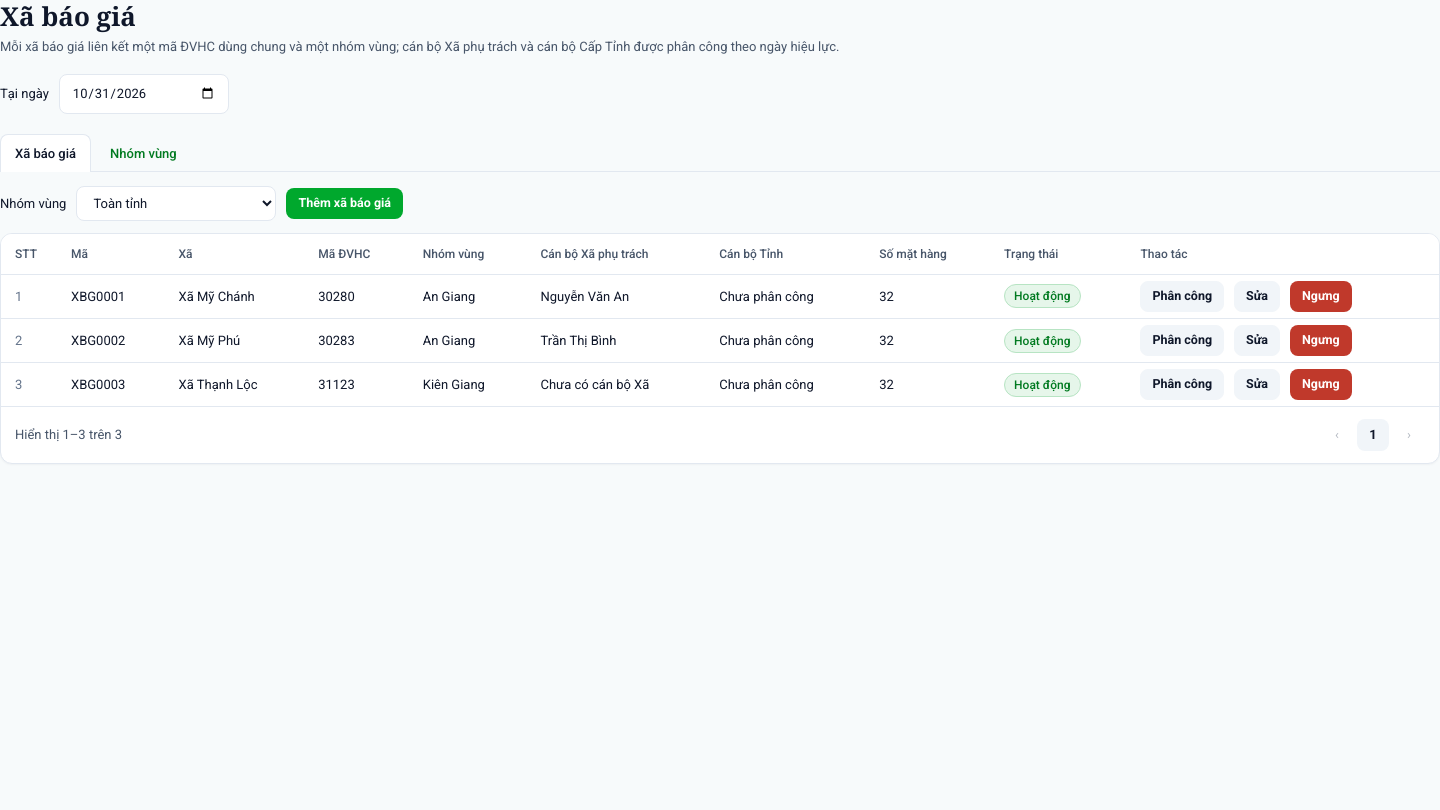
xã báo giá — backend giả lập theo hợp đồng /v1/price/points* › màn Admin: danh sách xã, thêm xã qua hộp thoại
Expected: the text "XBG0001" is shown, 57,274 -> 164,318
Expected: the text "Nguyễn Văn An" is shown, 526,274 -> 705,318
Click the button "Thêm xã báo giá": coordinates (345, 204) 286,188 -> 403,219
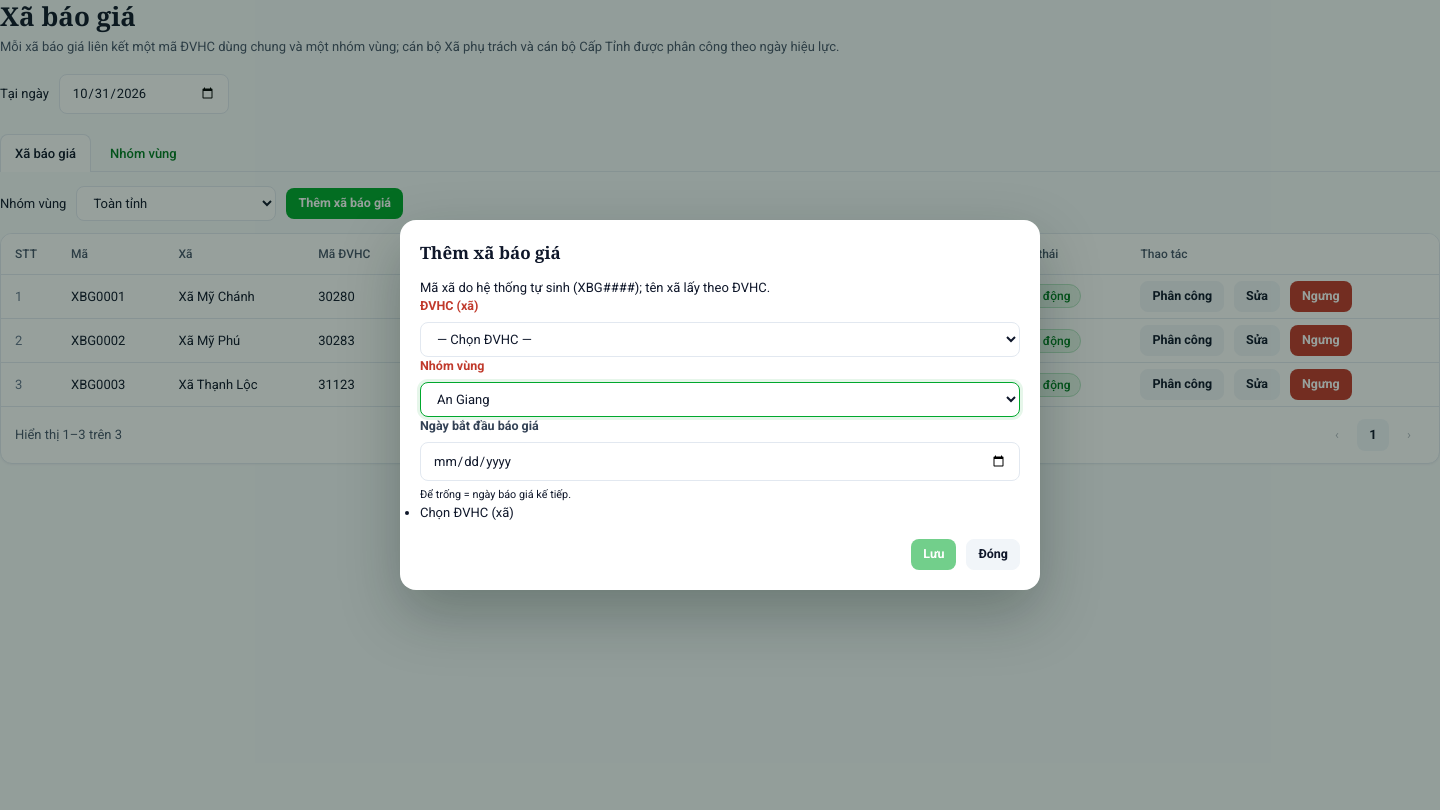
Result: the dropdown labelled "ĐVHC (xã)" is shown
Select "31126 — Xã Bình An" in the dropdown labelled "ĐVHC (xã)": coordinates (720, 340) 420,322 -> 1020,357
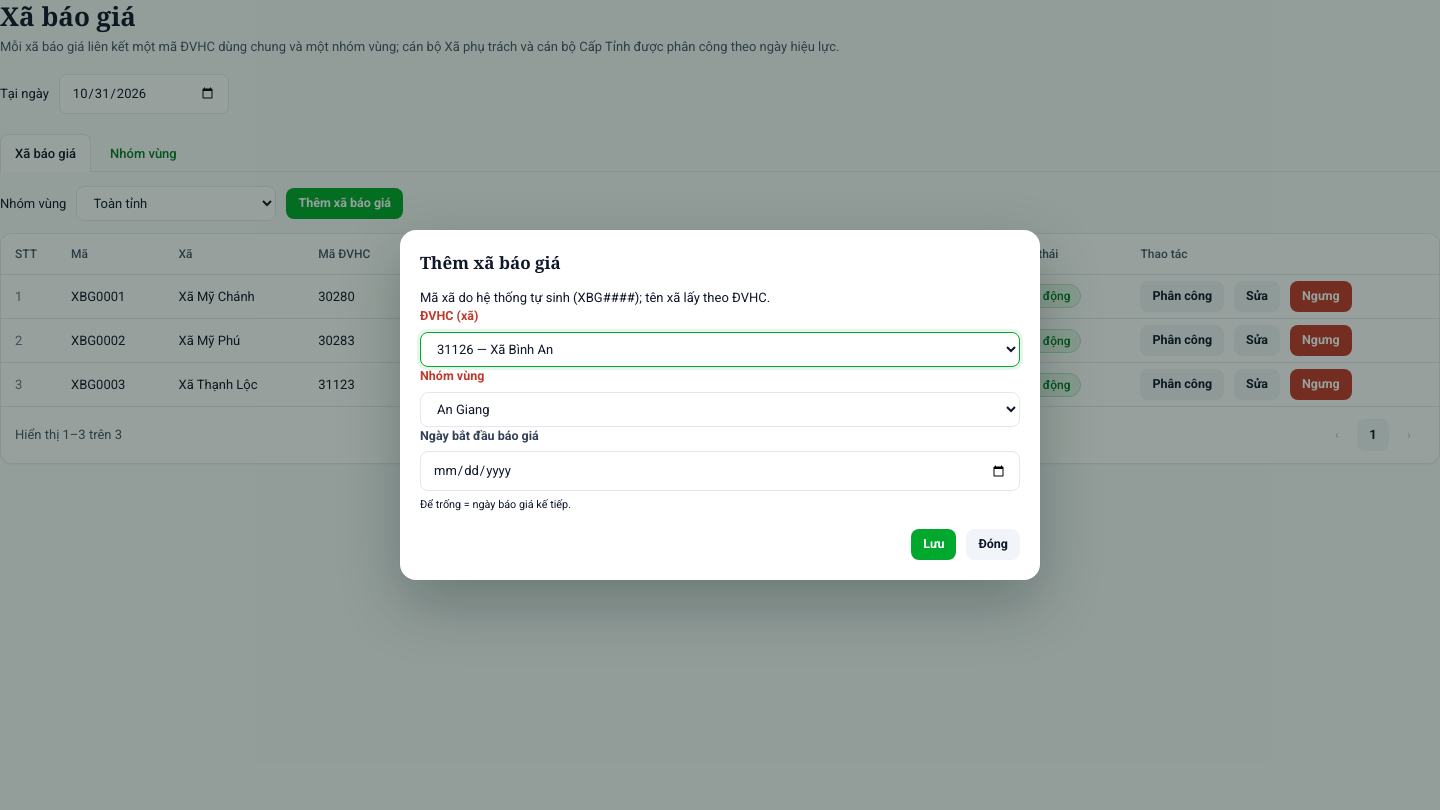
Click the button "Lưu": coordinates (934, 544) 911,529 -> 956,560
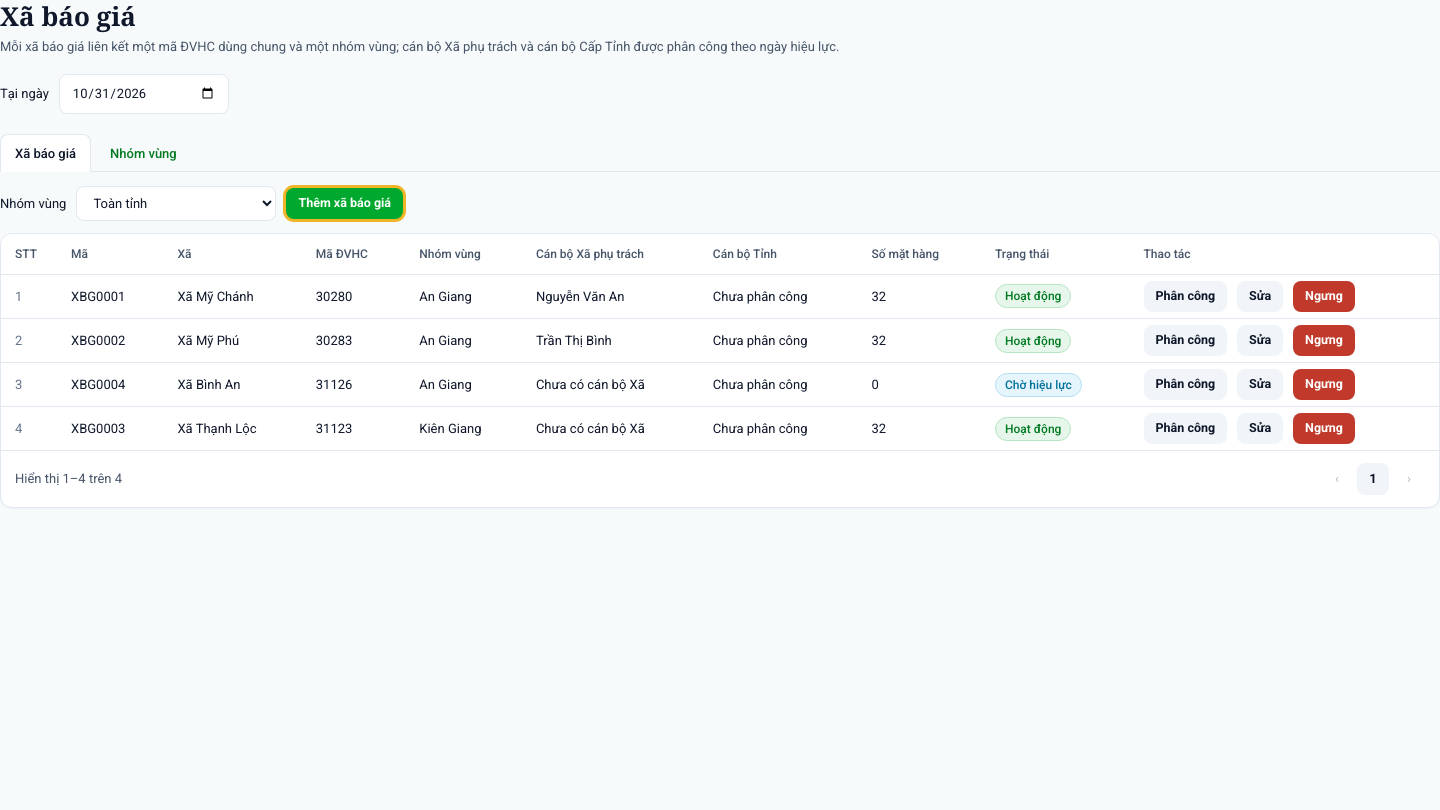
Result: the dialog is gone
